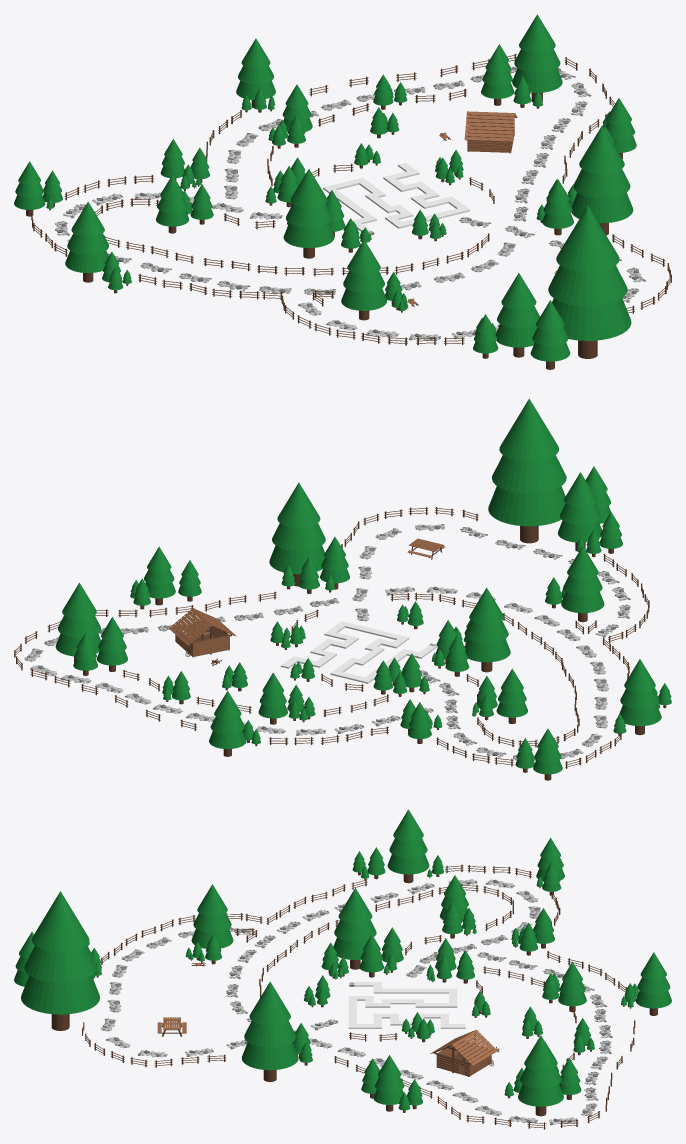
The model's file is map (3).fbx.
3 renders of one model, top to bottom at view 1: azimuth 30°, elevation 25°; view 2: azimuth 150°, elevation 25°; view 3: azimuth 270°, elevation 25°, orthographic. The views are drawn at different scales.
Visible parts, largest first — view 1: tree.073, tree.078, Path, tree.039, tree.083, tree.072, tree.066, tree.060, House, tree.074, tree.052, tree.036 (+8 smaller); view 2: tree.073, tree.078, Path, tree.039, tree.072, House, tree.066, tree.083, tree.060, tree.052, tree.091, tree.036 (+10 smaller); view 3: tree.073, tree.078, Path, tree.083, tree.039, House, tree.060, tree.066, tree.052, tree.091, tree.044, tree.036 (+7 smaller).
Boxes of the visible parts, x1,y1,x2,y2 form: tree.073: (548,205,631,358); tree.078: (571,126,633,235); Path: (323,162,470,234); tree.039: (283,169,334,258); tree.083: (512,14,562,102); tree.072: (495,273,539,357); tree.066: (341,239,386,320); tree.060: (65,201,108,282); House: (464,111,517,153); tree.074: (530,300,570,369); tree.052: (236,38,275,107); tree.036: (156,174,189,233); tree.073: (488,398,566,543); tree.078: (269,482,325,586); Path: (281,621,437,683); tree.039: (464,587,510,672); tree.072: (558,472,602,551); House: (168,608,236,657); tree.066: (561,546,604,622); tree.083: (55,582,100,662); tree.060: (619,659,661,735); tree.052: (209,691,246,756); tree.091: (144,546,175,605); tree.036: (496,668,527,723); tree.073: (21,891,99,1030); tree.078: (241,981,298,1081); Path: (348,982,465,1028); tree.083: (518,1035,563,1116); tree.039: (333,888,376,969); House: (430,1029,497,1076); tree.060: (387,809,429,883); tree.066: (191,884,233,948); tree.052: (635,952,671,1015); tree.091: (373,1055,404,1111); tree.044: (558,962,586,1012); tree.036: (440,875,468,921).
Size of what is drawn, in the model's own units: 7499 by 1796 by 7861.
